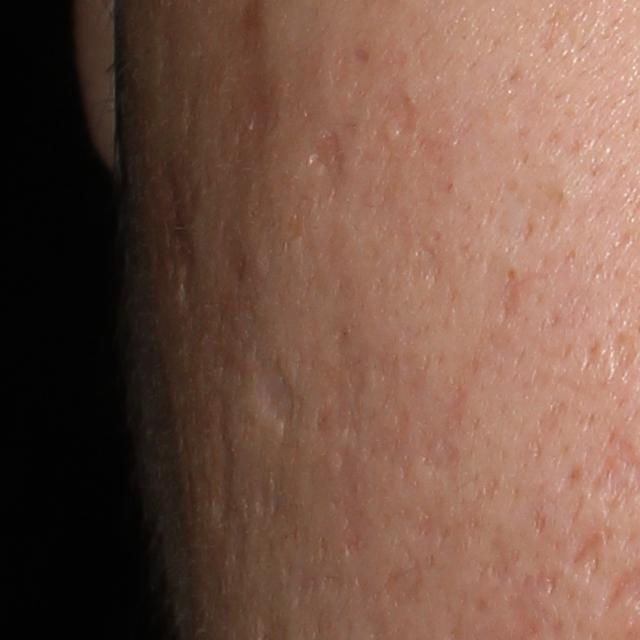atrophic_scar: (152, 169, 207, 310), (420, 374, 471, 482), (239, 333, 296, 429), (361, 79, 421, 170), (205, 407, 242, 534), (381, 551, 430, 611), (566, 524, 609, 585), (308, 127, 347, 176), (610, 331, 639, 378), (498, 269, 523, 323)
